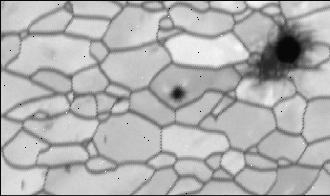good_void: (236, 17, 304, 100), (164, 81, 190, 105), (40, 119, 57, 135), (59, 160, 75, 176), (16, 175, 27, 193), (100, 132, 109, 146), (151, 46, 160, 55)
